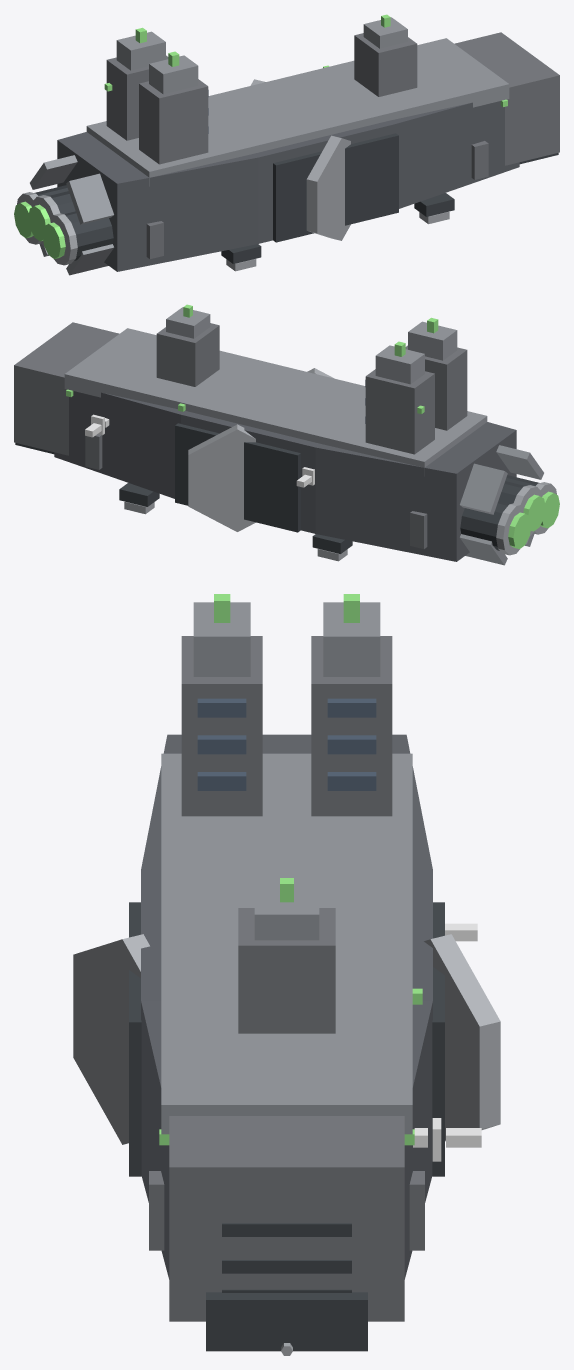
The model's file is FC_Mothership.fbx.
The picture shows the model from 3 angles, top to bottom: view 1: azimuth 30°, elevation 25°; view 2: azimuth 150°, elevation 25°; view 3: azimuth 270°, elevation 25°; orthographic projection. The views are drawn at different scales.
Visible parts, largest first — view 1: FC_Mothership; view 2: FC_Mothership; view 3: FC_Mothership.
Part boxes in pixels (box(x1,y1,x2,y2)): FC_Mothership: box(14, 14, 559, 275); FC_Mothership: box(14, 304, 559, 565); FC_Mothership: box(73, 594, 500, 1355).
Size of the model in its own units: 2.64 by 1.11 by 0.9701.
